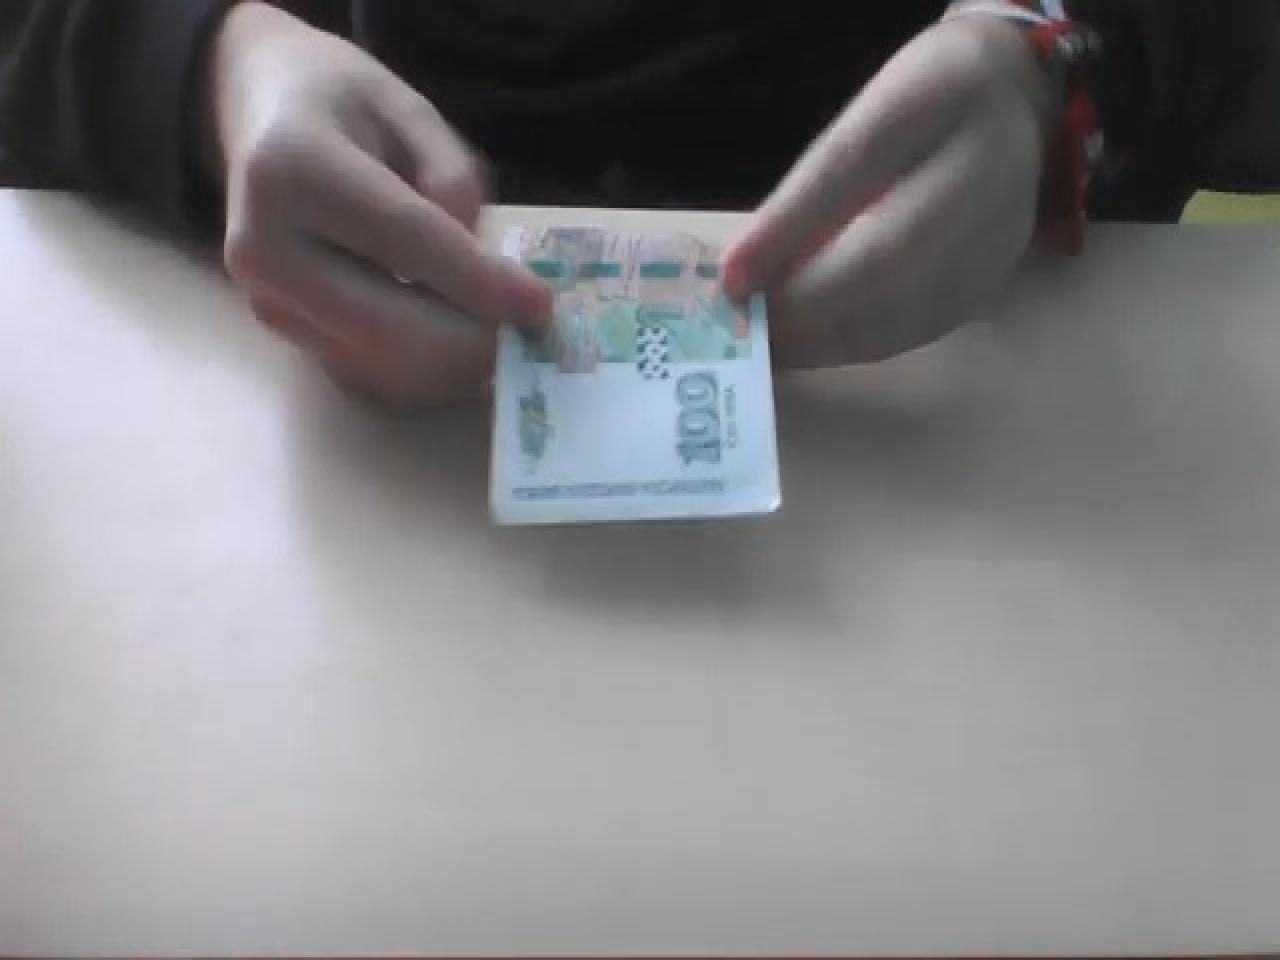100leva: (472, 206, 784, 525)
